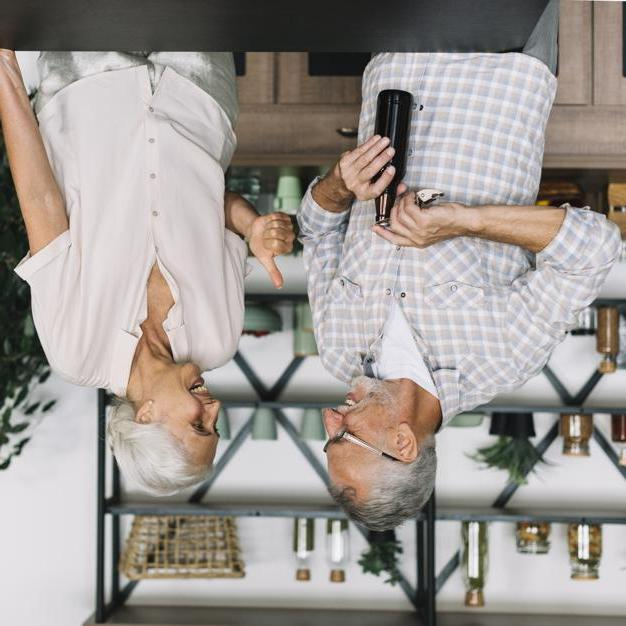thumbsdown: (261, 212, 296, 290)
